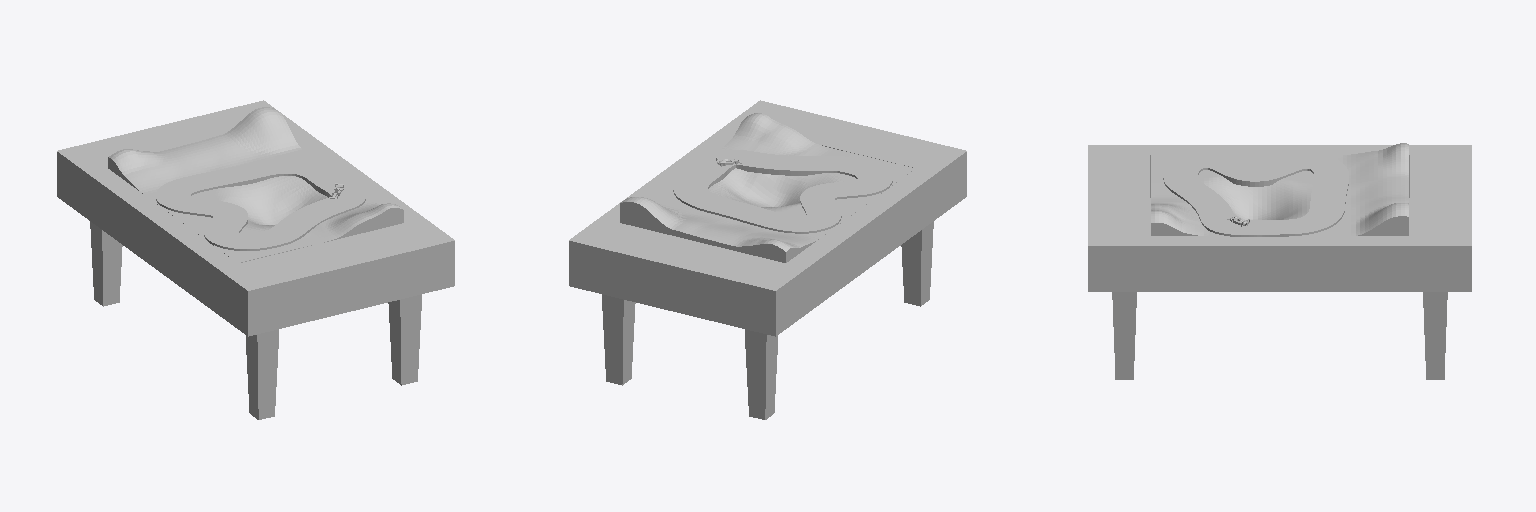
The model's file is NewestTisch31.obj.
The picture shows the model from 3 angles: view 1: azimuth 30°, elevation 25°; view 2: azimuth 150°, elevation 25°; view 3: azimuth 270°, elevation 25°; orthographic projection.
Parts seen in each view (by area): view 1: Tischplatte_wood_table_001, Landschaft_aerial_grass_rock, off, Bein1_wood_table_001, Bein4_wood_table_001.003, Bein3_wood_table_001.002; view 2: Tischplatte_wood_table_001, Landschaft_aerial_grass_rock, off, Bein2_wood_table_001.001, Bein3_wood_table_001.002, Bein4_wood_table_001.003; view 3: Tischplatte_wood_table_001, Landschaft_aerial_grass_rock, off, Bein1_wood_table_001, Bein2_wood_table_001.001.
Part boxes in pixels (x1,y1,x2,y2): Tischplatte_wood_table_001: (57,100,454,336); Landschaft_aerial_grass_rock: (108,107,403,262); off: (156,159,365,250); Bein1_wood_table_001: (388,294,421,385); Bein4_wood_table_001.003: (246,329,278,419); Bein3_wood_table_001.002: (90,221,122,306); Tischplatte_wood_table_001: (569,100,966,336); Landschaft_aerial_grass_rock: (620,113,915,262); off: (673,150,892,233); Bein2_wood_table_001.001: (602,294,635,385); Bein3_wood_table_001.002: (745,329,777,419); Bein4_wood_table_001.003: (901,221,933,306); Tischplatte_wood_table_001: (1088,145,1471,291); Landschaft_aerial_grass_rock: (1151,143,1408,235); off: (1163,153,1348,236); Bein1_wood_table_001: (1112,292,1136,379); Bein2_wood_table_001.001: (1423,292,1447,379).
Size of the model in its own units: 5 by 3.91 by 8.